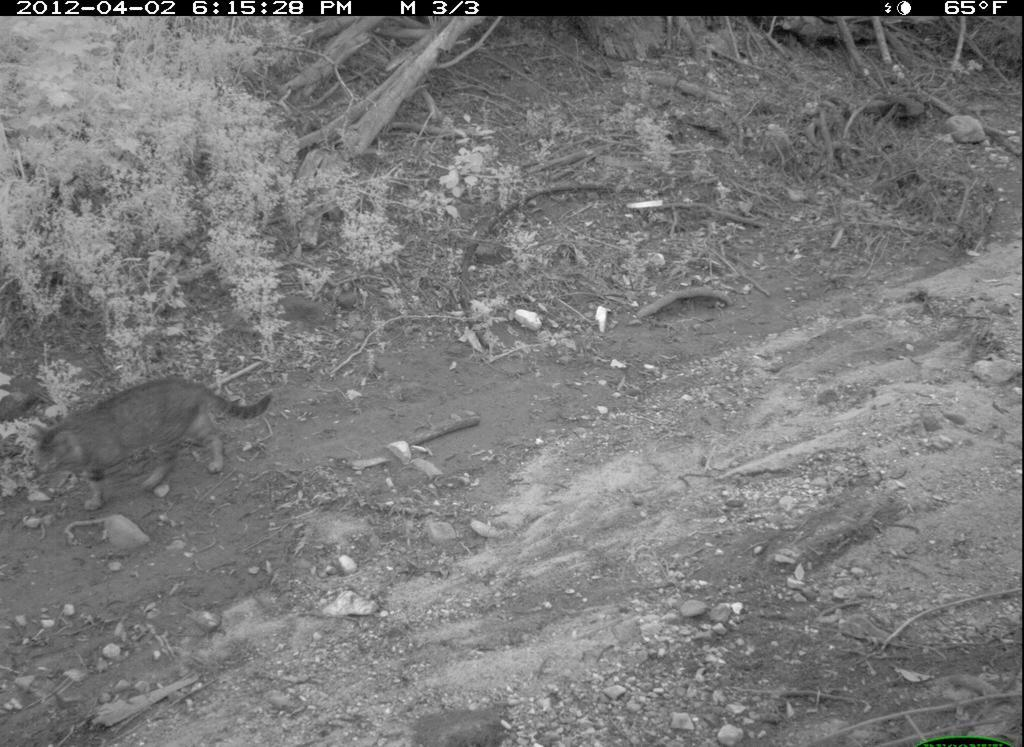cat: (24, 369, 291, 514)
